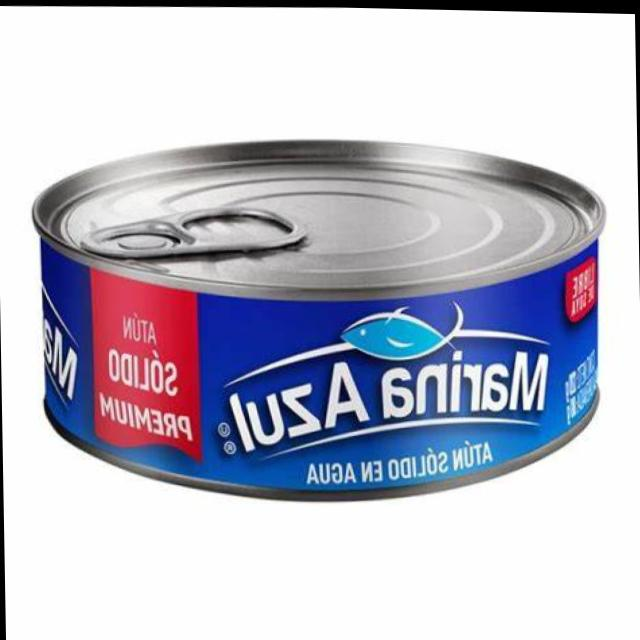Lata: (25, 134, 612, 518)
